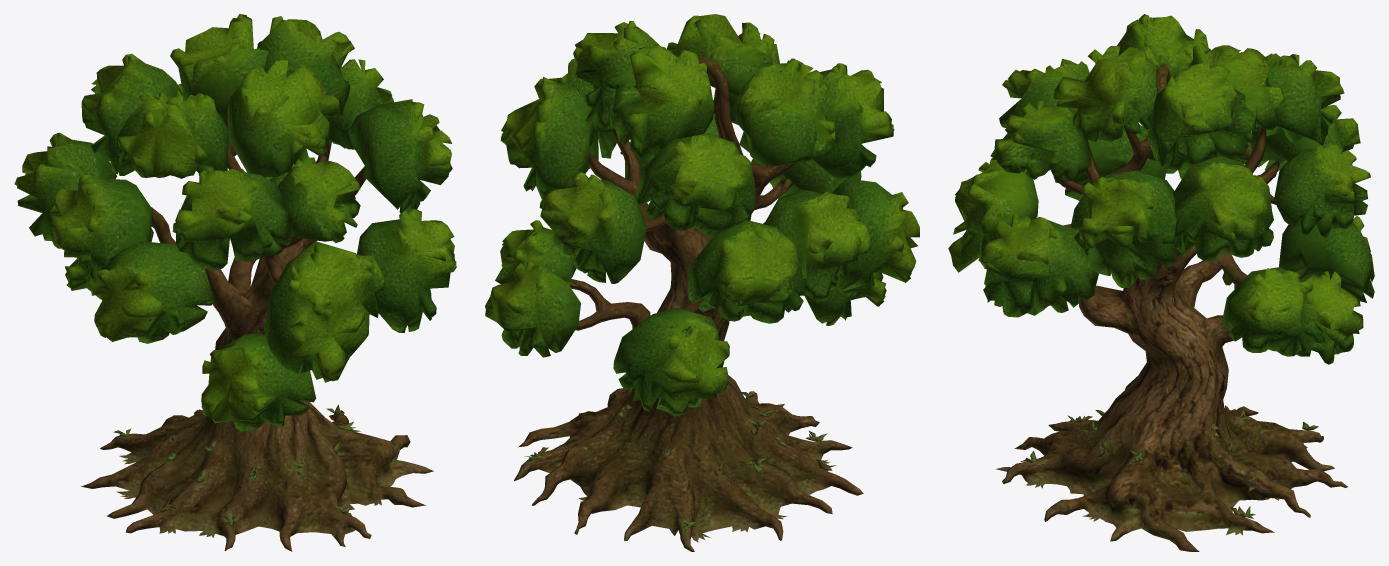
File: ancient-tree.glb
3 renders of one model, left to right at view 1: azimuth 30°, elevation 25°; view 2: azimuth 150°, elevation 25°; view 3: azimuth 270°, elevation 25°, orthographic. The views are drawn at different scales.
Visible parts, largest first — view 1: tripo_node_3c2dadac-03a4-4b7d-9cf3-c705dabf58d9; view 2: tripo_node_3c2dadac-03a4-4b7d-9cf3-c705dabf58d9; view 3: tripo_node_3c2dadac-03a4-4b7d-9cf3-c705dabf58d9.
Boxes of the visible parts, <box> form: tripo_node_3c2dadac-03a4-4b7d-9cf3-c705dabf58d9: <box>14,14,456,551</box>; tripo_node_3c2dadac-03a4-4b7d-9cf3-c705dabf58d9: <box>485,14,919,551</box>; tripo_node_3c2dadac-03a4-4b7d-9cf3-c705dabf58d9: <box>948,14,1374,551</box>.
Size of the model in its own units: 0.8418 by 0.998 by 0.8848.
1 material, 1 textured.
